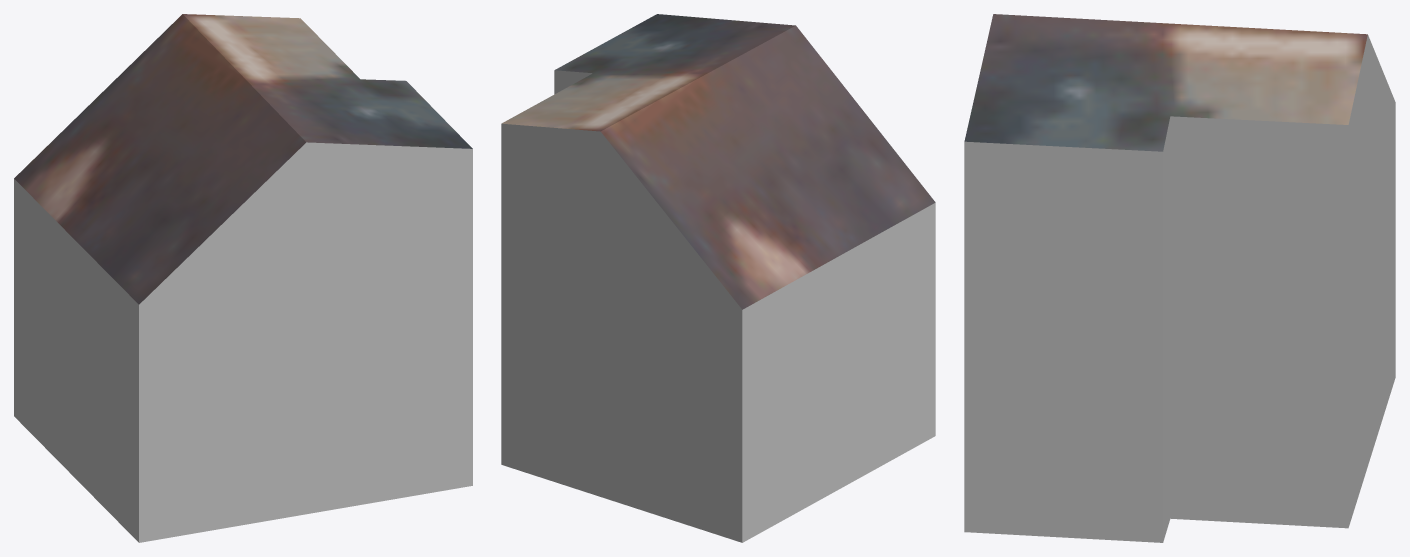
Rendered from DEBW_0010007Tx4Y.gltf.
3 renders of one model, left to right at view 1: azimuth 30°, elevation 25°; view 2: azimuth 150°, elevation 25°; view 3: azimuth 270°, elevation 25°, orthographic. The views are drawn at different scales.
Visible parts, largest first — view 1: Z_UP; view 2: Z_UP; view 3: Z_UP.
Boxes of the visible parts, x1,y1,x2,y2 form: Z_UP: [14, 14, 472, 542]; Z_UP: [501, 14, 935, 542]; Z_UP: [964, 14, 1395, 542].
Bounding box in the file's own units: 10.28 × 11.16 × 10.09.
Materials: 2 (1 with a texture image).
